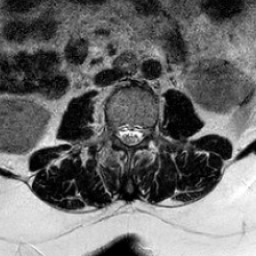CCS_normal: (126, 113, 135, 155)
LFS_normal: (143, 116, 154, 147)
LLS_normal: (135, 114, 143, 153)
RFS_normal: (110, 113, 118, 143)
RLS_normal: (118, 113, 126, 152)
